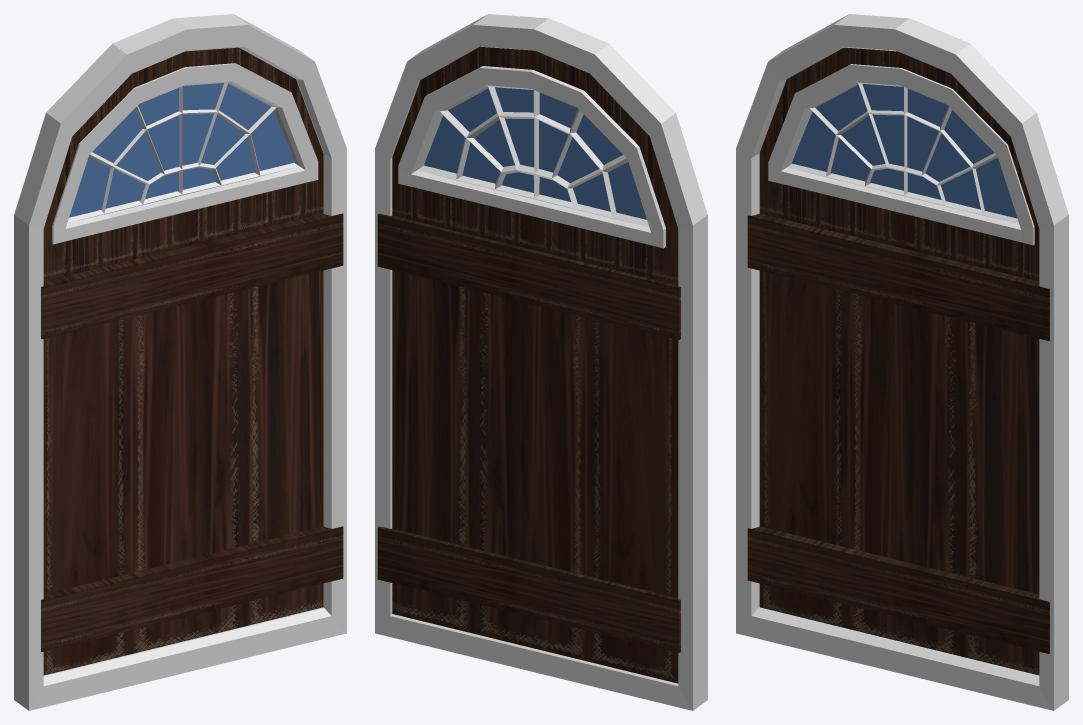
The model's file is Green Door.fbx.
The picture shows the model from 3 angles, left to right: view 1: azimuth 30°, elevation 25°; view 2: azimuth 150°, elevation 25°; view 3: azimuth 330°, elevation 25°; orthographic projection.
Parts seen in each view (by area): view 1: Greenhouse Door, WindowFrames005, GlassPaneCurve058, CurvedWindow_FRAME019, WindowFrameCurve019; view 2: Greenhouse Door, WindowFrames005, GlassPaneCurve058, CurvedWindow_FRAME019, WindowFrameCurve019; view 3: Greenhouse Door, WindowFrames005, GlassPaneCurve058, CurvedWindow_FRAME019, WindowFrameCurve019.
Part boxes in pixels (bbox=[...]): Greenhouse Door: bbox=[41, 47, 343, 675]; WindowFrames005: bbox=[14, 14, 346, 710]; GlassPaneCurve058: bbox=[69, 83, 294, 217]; CurvedWindow_FRAME019: bbox=[52, 63, 318, 244]; WindowFrameCurve019: bbox=[67, 82, 299, 222]; Greenhouse Door: bbox=[377, 46, 680, 683]; WindowFrames005: bbox=[375, 14, 707, 710]; GlassPaneCurve058: bbox=[424, 87, 646, 219]; CurvedWindow_FRAME019: bbox=[398, 66, 665, 248]; WindowFrameCurve019: bbox=[417, 86, 648, 226]; Greenhouse Door: bbox=[747, 47, 1049, 675]; WindowFrames005: bbox=[736, 14, 1068, 710]; GlassPaneCurve058: bbox=[791, 84, 1017, 218]; CurvedWindow_FRAME019: bbox=[768, 64, 1034, 245]; WindowFrameCurve019: bbox=[787, 83, 1018, 223].
Size of the model in its own units: 104 by 200 by 9.51.
